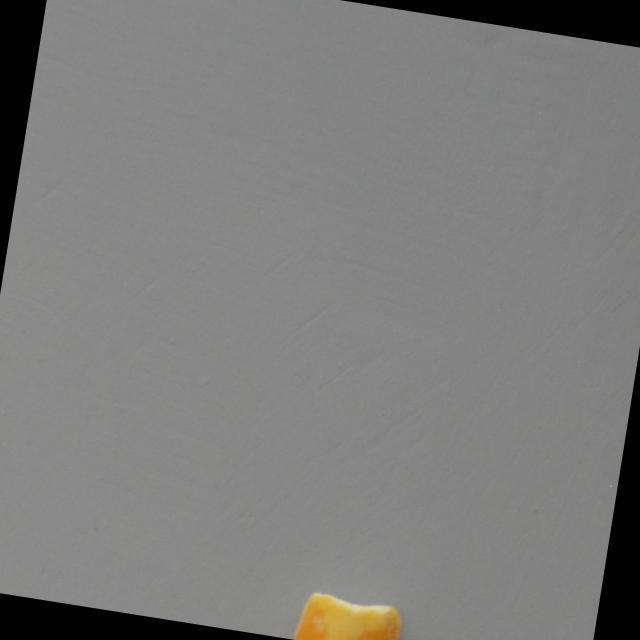pelicula: (290, 586, 407, 640)
